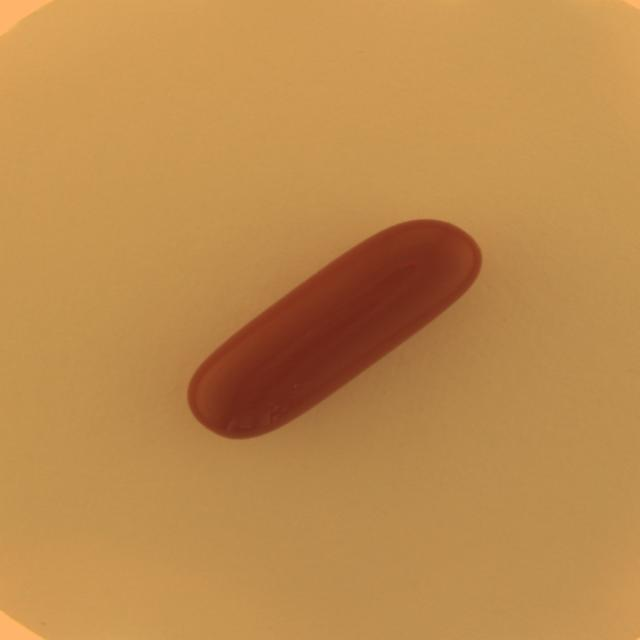Oval: (186, 216, 480, 443)
